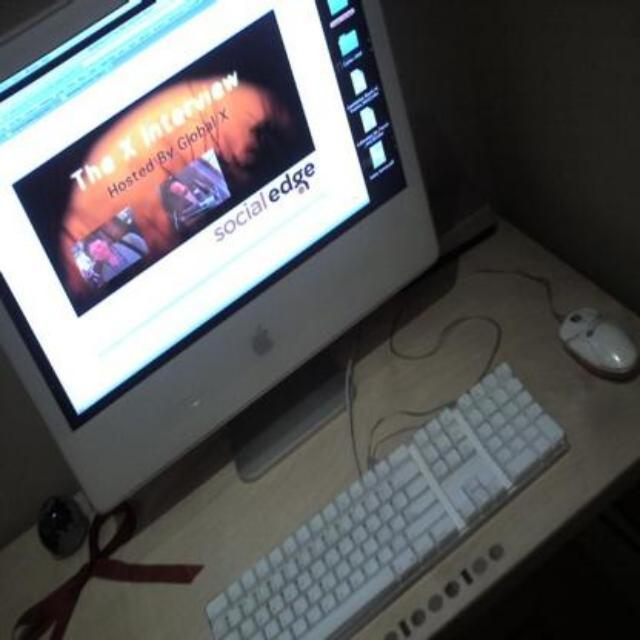Computer-Keyboard: (191, 370, 561, 640)
Computer-Mouse: (548, 280, 640, 390)
Flat-Panel-Monitor: (0, 1, 444, 423)
